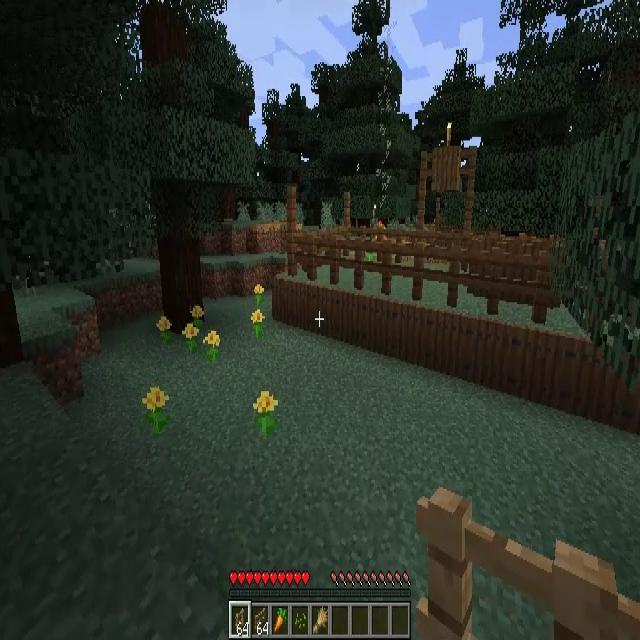flower: (144, 388, 169, 432), (253, 390, 277, 435), (205, 332, 220, 366), (183, 324, 199, 354), (157, 315, 171, 345), (252, 310, 264, 338), (190, 306, 204, 322), (254, 283, 264, 305)
